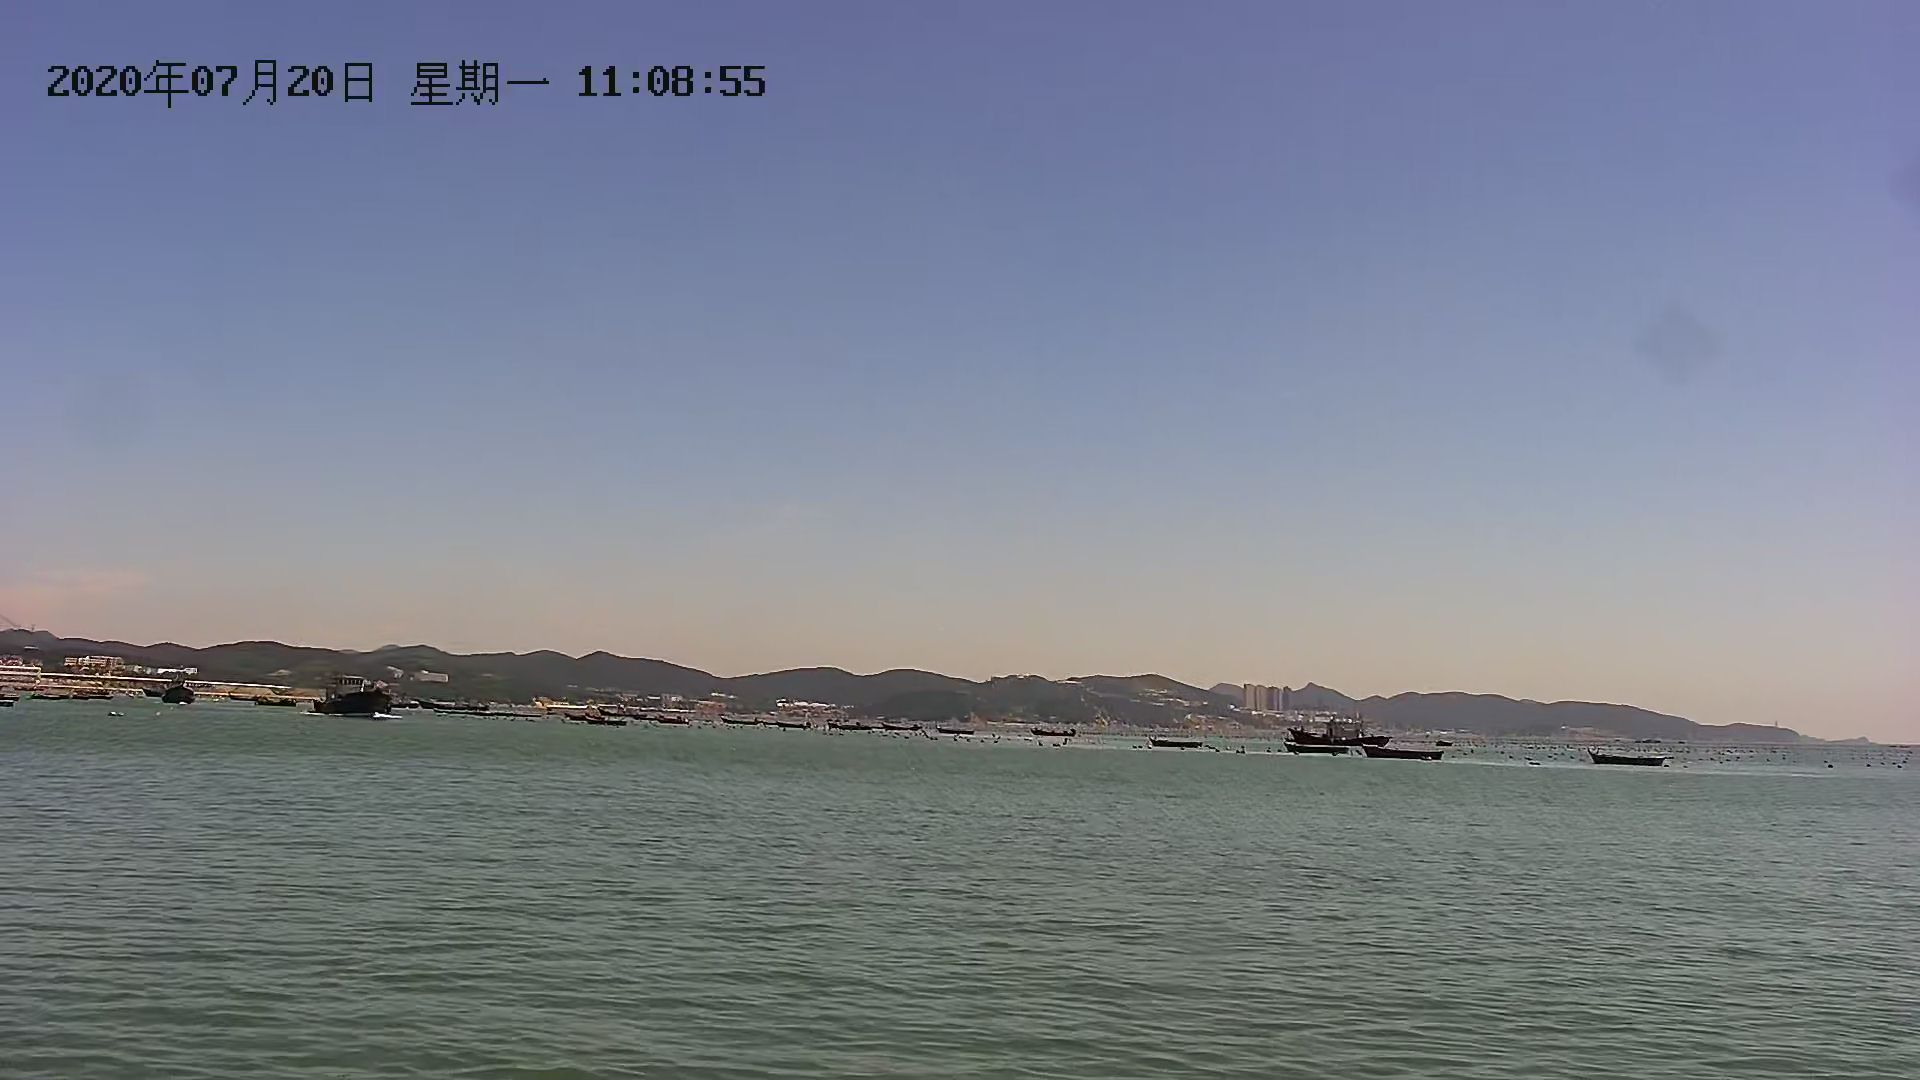boat: (1362, 741, 1455, 764), (1592, 745, 1672, 769), (1298, 720, 1379, 742), (1147, 731, 1211, 750)
ship: (323, 679, 393, 715), (157, 673, 199, 709)
